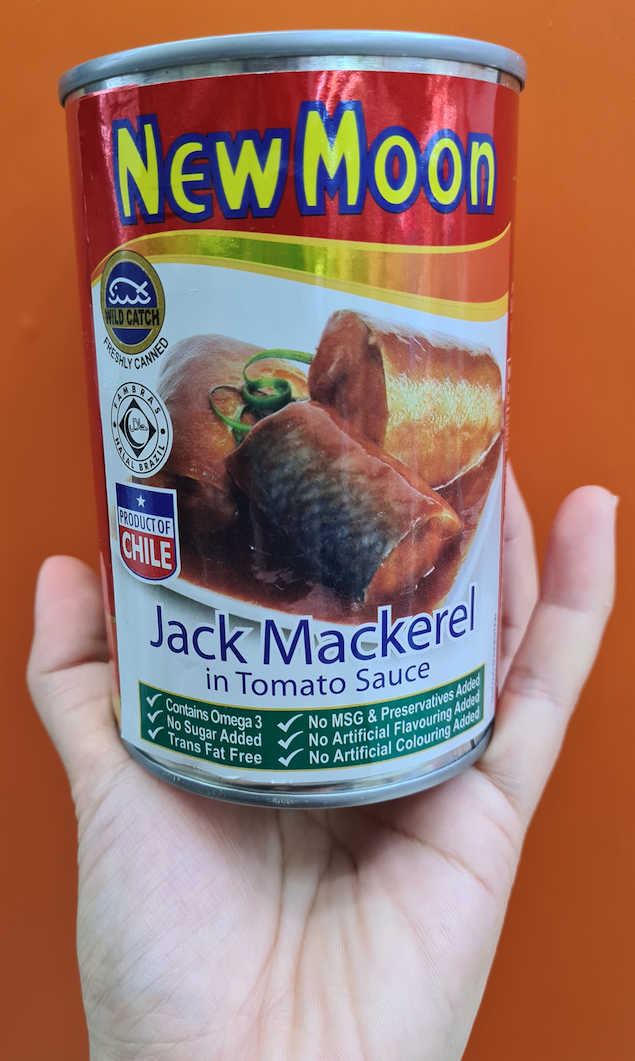Canned_Sardines_and_Mackerel: (94, 70, 505, 765)
